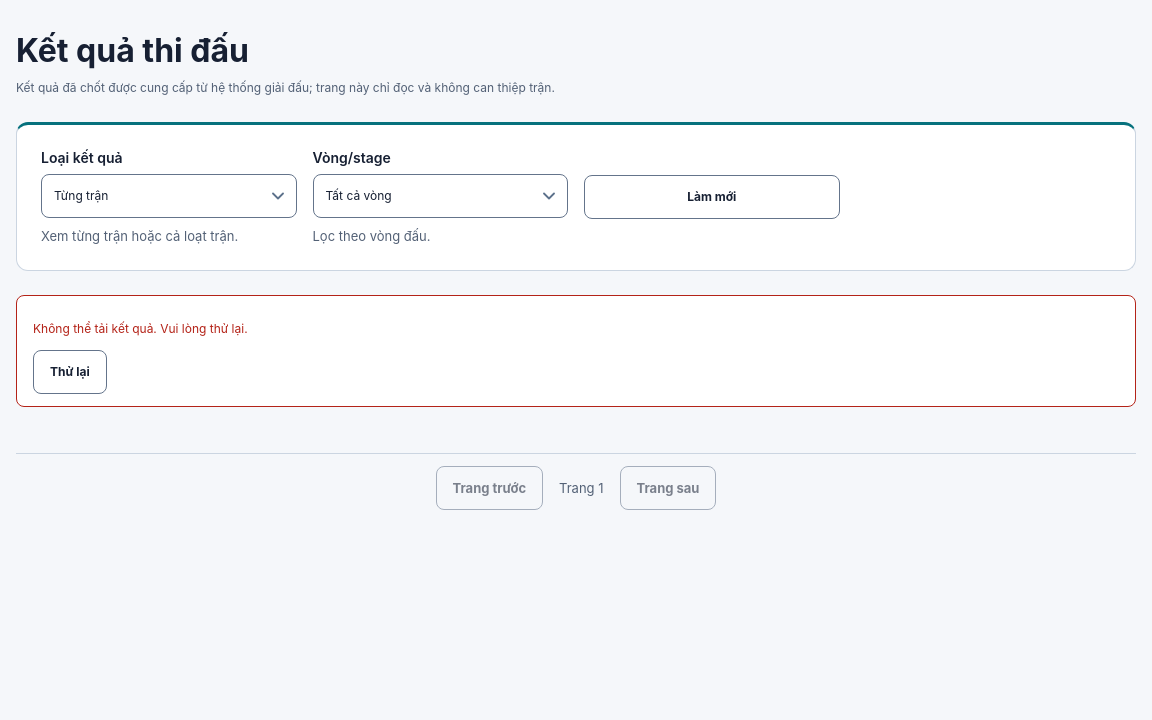
Test: results page UI › shows an alert with retry on failure, an empty state, and disabled pagination bounds
Expected: the message shows "Không thể tải kết quả", [33,321,248,336]
Click the button "Thử lại": (70, 372) [33,350,107,394]
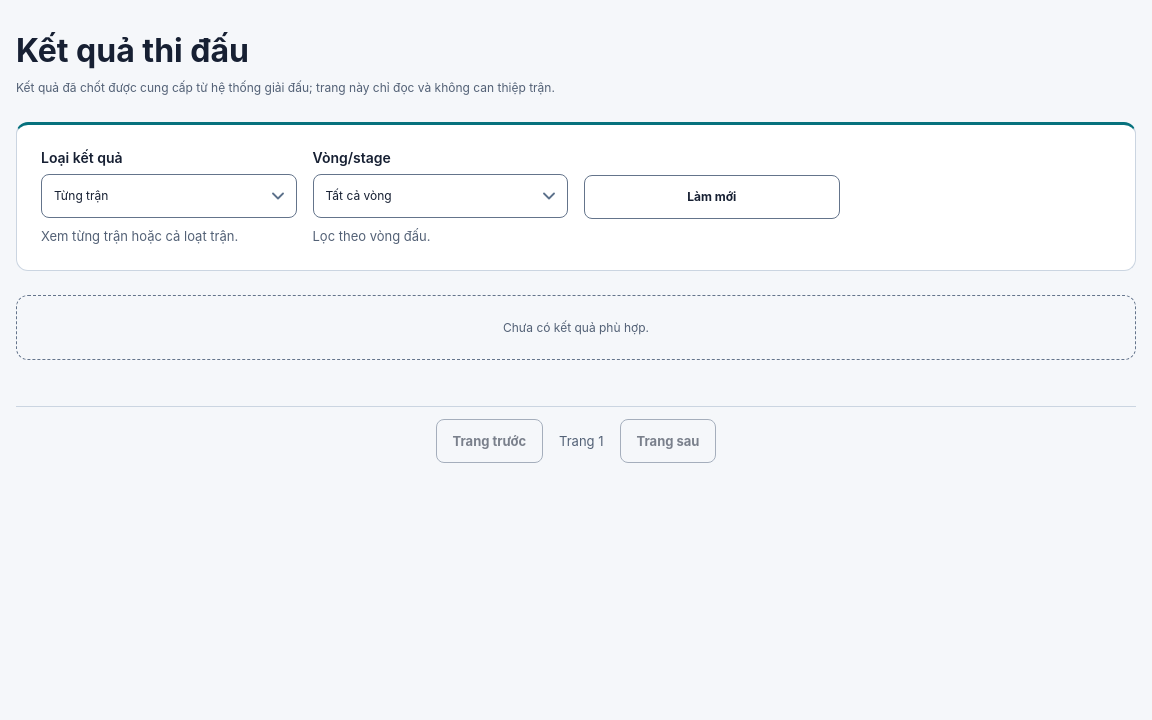
Expected: the button "Trang trước" is disabled, [436,419,543,463]
Expected: the text "Chưa có kết quả phù hợp." is shown, [16,295,1136,360]
